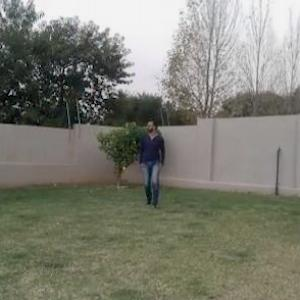follow: (139, 116, 163, 212)
